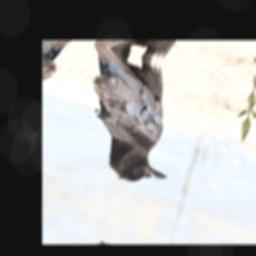Crow: (61, 43, 198, 193)
